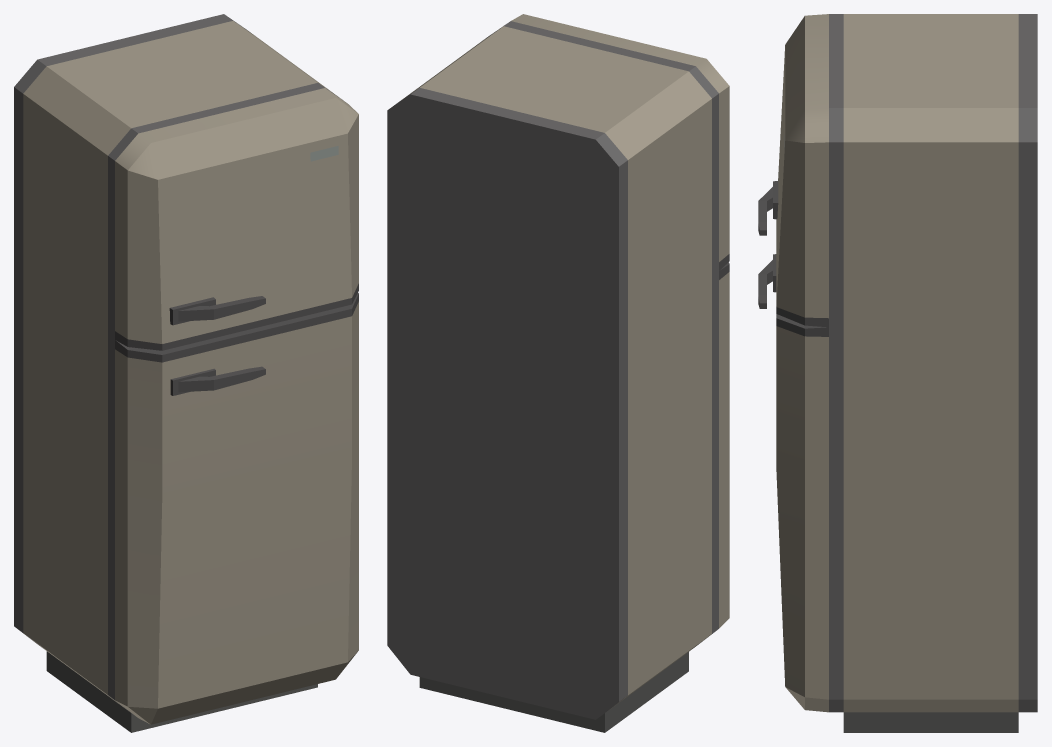
Rendered from SM_Prop_Fridge_01.fbx.
3 renders of one model, left to right at view 1: azimuth 30°, elevation 25°; view 2: azimuth 150°, elevation 25°; view 3: azimuth 270°, elevation 25°, orthographic. The views are drawn at different scales.
Visible parts, largest first — view 1: SM_Prop_Fridge_Door_02, SM_Prop_Fridge_01, SM_Prop_Fridge_Door_01; view 2: SM_Prop_Fridge_01, SM_Prop_Fridge_Door_01, SM_Prop_Fridge_Door_02; view 3: SM_Prop_Fridge_01, SM_Prop_Fridge_Door_02, SM_Prop_Fridge_Door_01.
Part boxes in pixels (<box>): SM_Prop_Fridge_Door_02: <box>115,293,358,724</box>; SM_Prop_Fridge_01: <box>14,14,343,732</box>; SM_Prop_Fridge_Door_01: <box>115,88,358,350</box>; SM_Prop_Fridge_01: <box>387,21,718,732</box>; SM_Prop_Fridge_Door_01: <box>511,14,729,270</box>; SM_Prop_Fridge_Door_02: <box>719,262,729,628</box>; SM_Prop_Fridge_01: <box>829,14,1037,732</box>; SM_Prop_Fridge_Door_02: <box>758,254,828,712</box>; SM_Prop_Fridge_Door_01: <box>758,14,828,327</box>.
Bounding box in the file's own units: 93.4 × 231 × 93.8.
